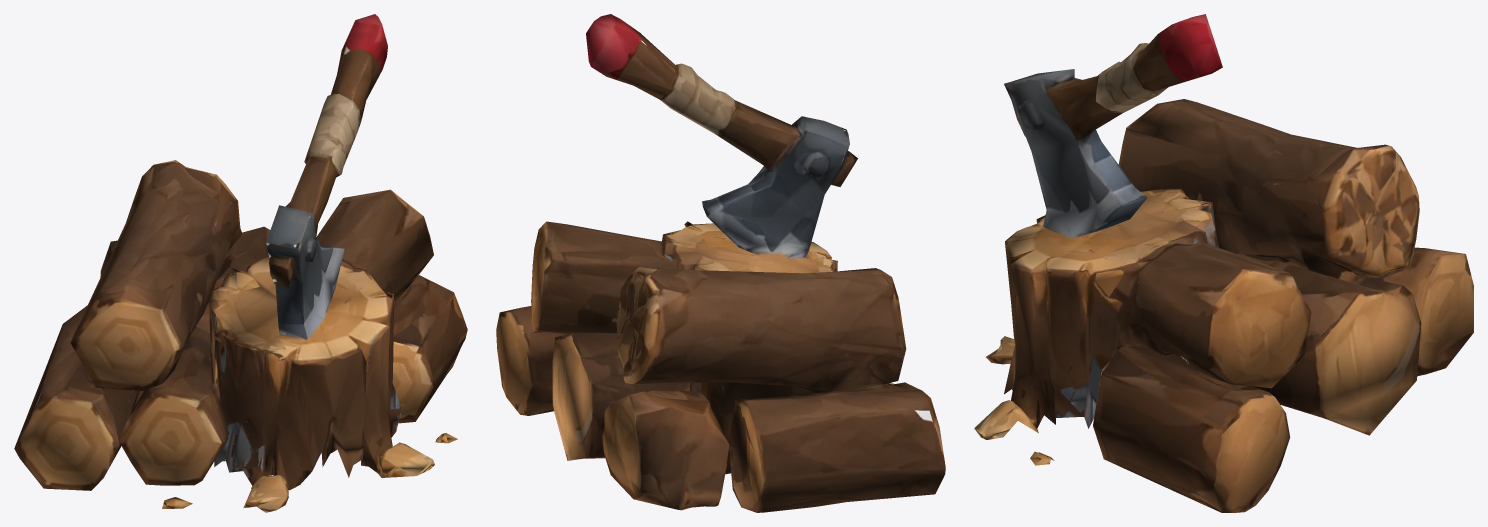
Rendered from dec_woodpile.glb.
The picture shows the model from 3 angles, left to right: view 1: azimuth 30°, elevation 25°; view 2: azimuth 150°, elevation 25°; view 3: azimuth 270°, elevation 25°; orthographic projection. The views are drawn at different scales.
Visible parts, largest first — view 1: BakeLow; view 2: BakeLow; view 3: BakeLow.
Part boxes in pixels (left/top/right/bottom): BakeLow: left=14, top=14, right=467, bottom=512; BakeLow: left=496, top=14, right=945, bottom=512; BakeLow: left=974, top=14, right=1473, bottom=512.
Bounding box in the file's own units: 0.9368 × 0.7824 × 0.7754.
1 material, 1 textured.
